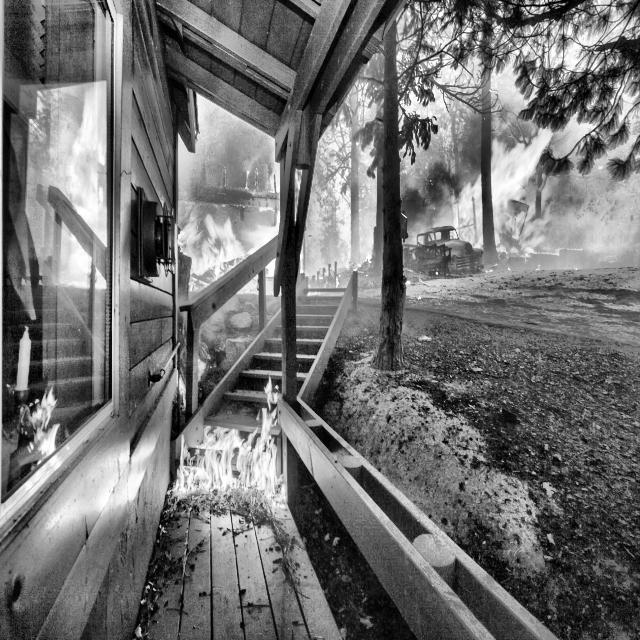fire: (148, 369, 300, 557), (451, 132, 612, 297), (189, 178, 308, 303)
